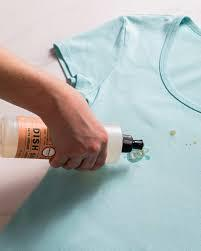mustard: (129, 150, 151, 163), (185, 141, 198, 151), (165, 126, 177, 136)
